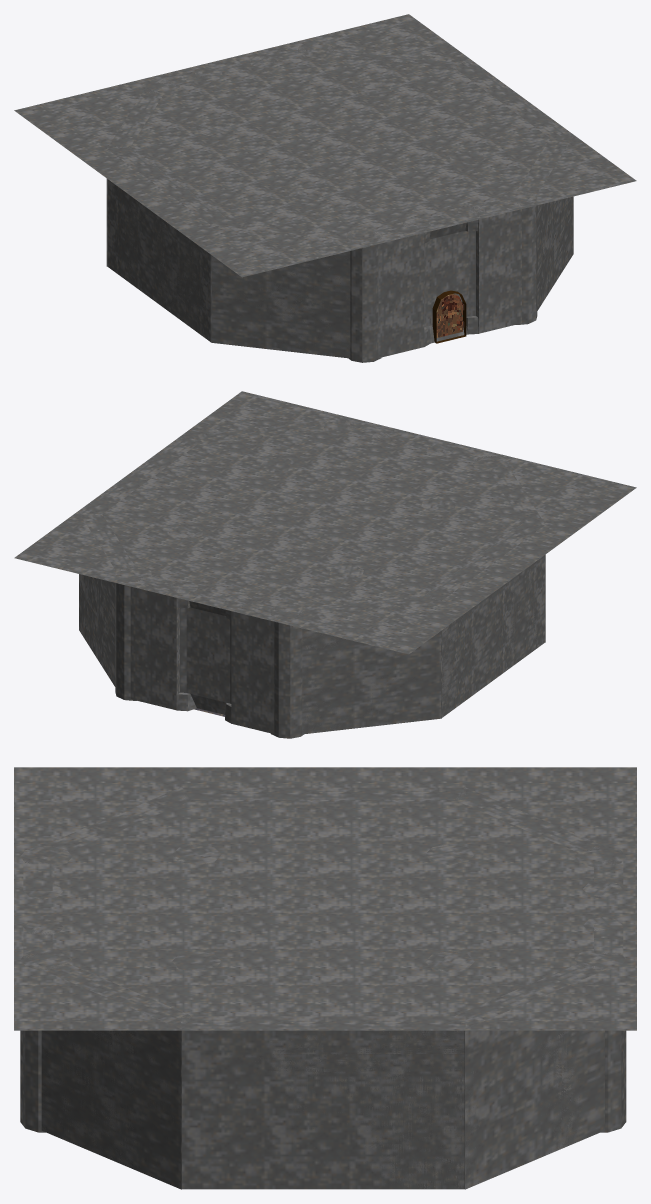
The model's file is arena2.fbx.
3 renders of one model, top to bottom at view 1: azimuth 30°, elevation 25°; view 2: azimuth 150°, elevation 25°; view 3: azimuth 270°, elevation 25°, orthographic. The views are drawn at different scales.
Visible parts, largest first — view 1: walls, door.002; view 2: walls; view 3: walls.
Boxes of the visible parts, x1=… form: walls: x1=14, y1=14, x2=636, y2=362; door.002: x1=432, y1=290, x2=466, y2=343; walls: x1=14, y1=391, x2=636, y2=738; walls: x1=14, y1=767, x2=636, y2=1189.
Bounding box in the file's own units: 154 × 44.56 × 154.
6 materials, 3 textured.
